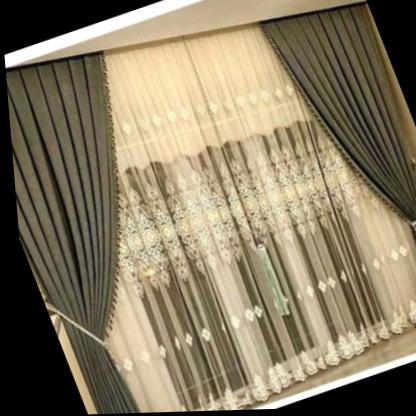Curtains: (4, 51, 134, 415), (257, 5, 416, 262)
